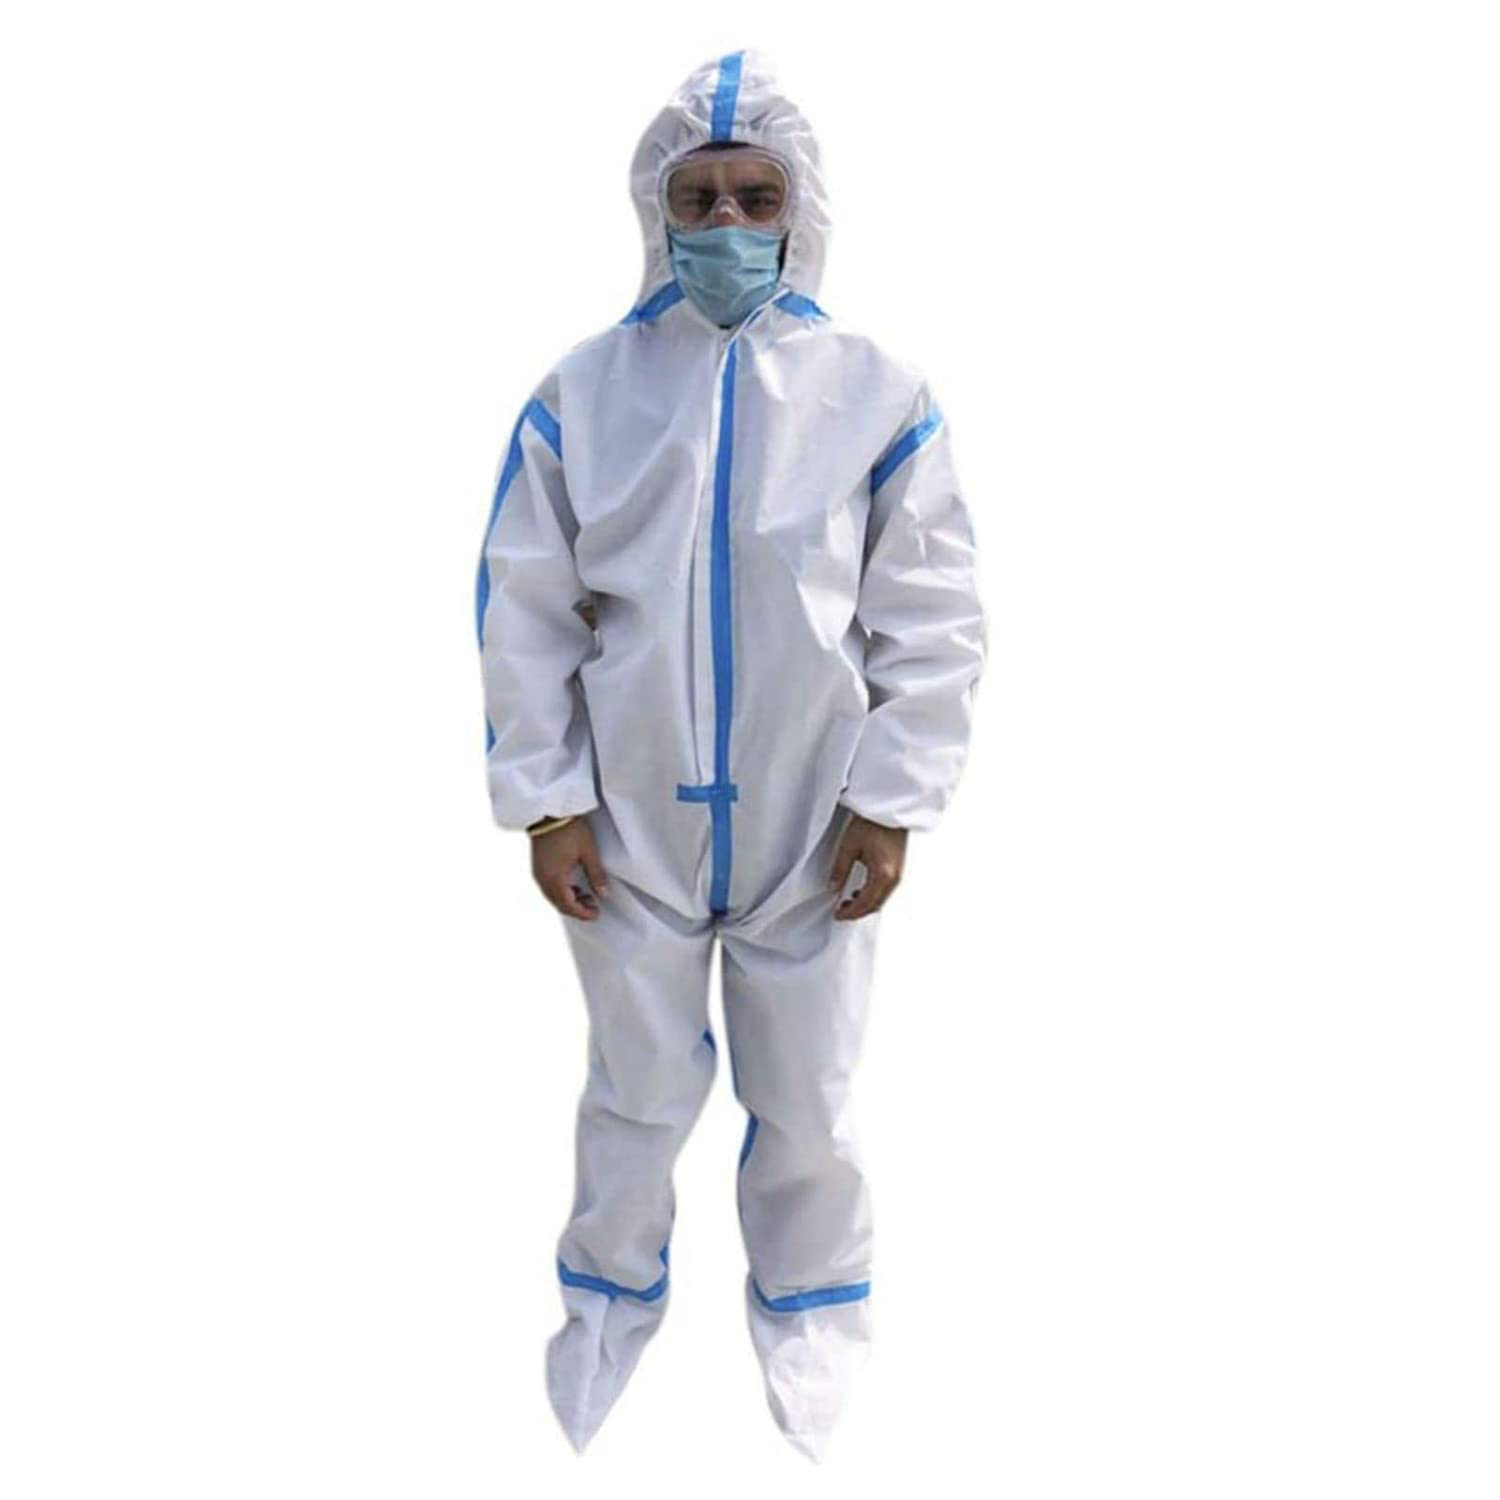Coverall: (471, 41, 985, 1383)
Goggles: (654, 147, 805, 242)
with_mask: (667, 169, 786, 323)
